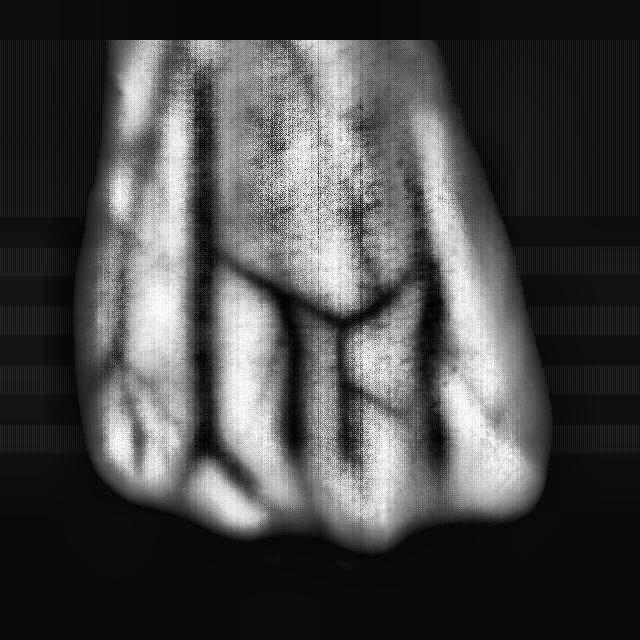Vein: (184, 117, 223, 292)
